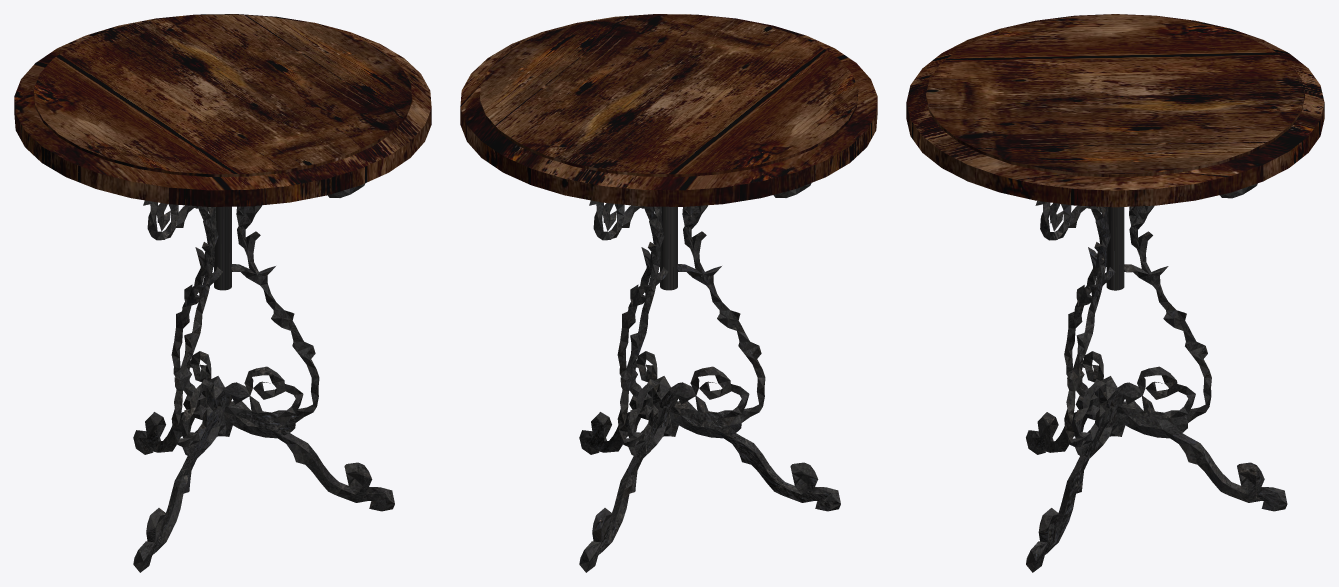
File: table2.glb
The picture shows the model from 3 angles, left to right: view 1: azimuth 30°, elevation 25°; view 2: azimuth 150°, elevation 25°; view 3: azimuth 270°, elevation 25°; orthographic projection.
Parts seen in each view (by area): view 1: Cylinder; view 2: Cylinder; view 3: Cylinder.
Part boxes in pixels (<box>): Cylinder: <box>14,14,431,572</box>; Cylinder: <box>460,14,877,572</box>; Cylinder: <box>906,14,1324,572</box>.
Size of the model in its own units: 2.36 by 2.59 by 2.36.
2 materials, 2 textured.
